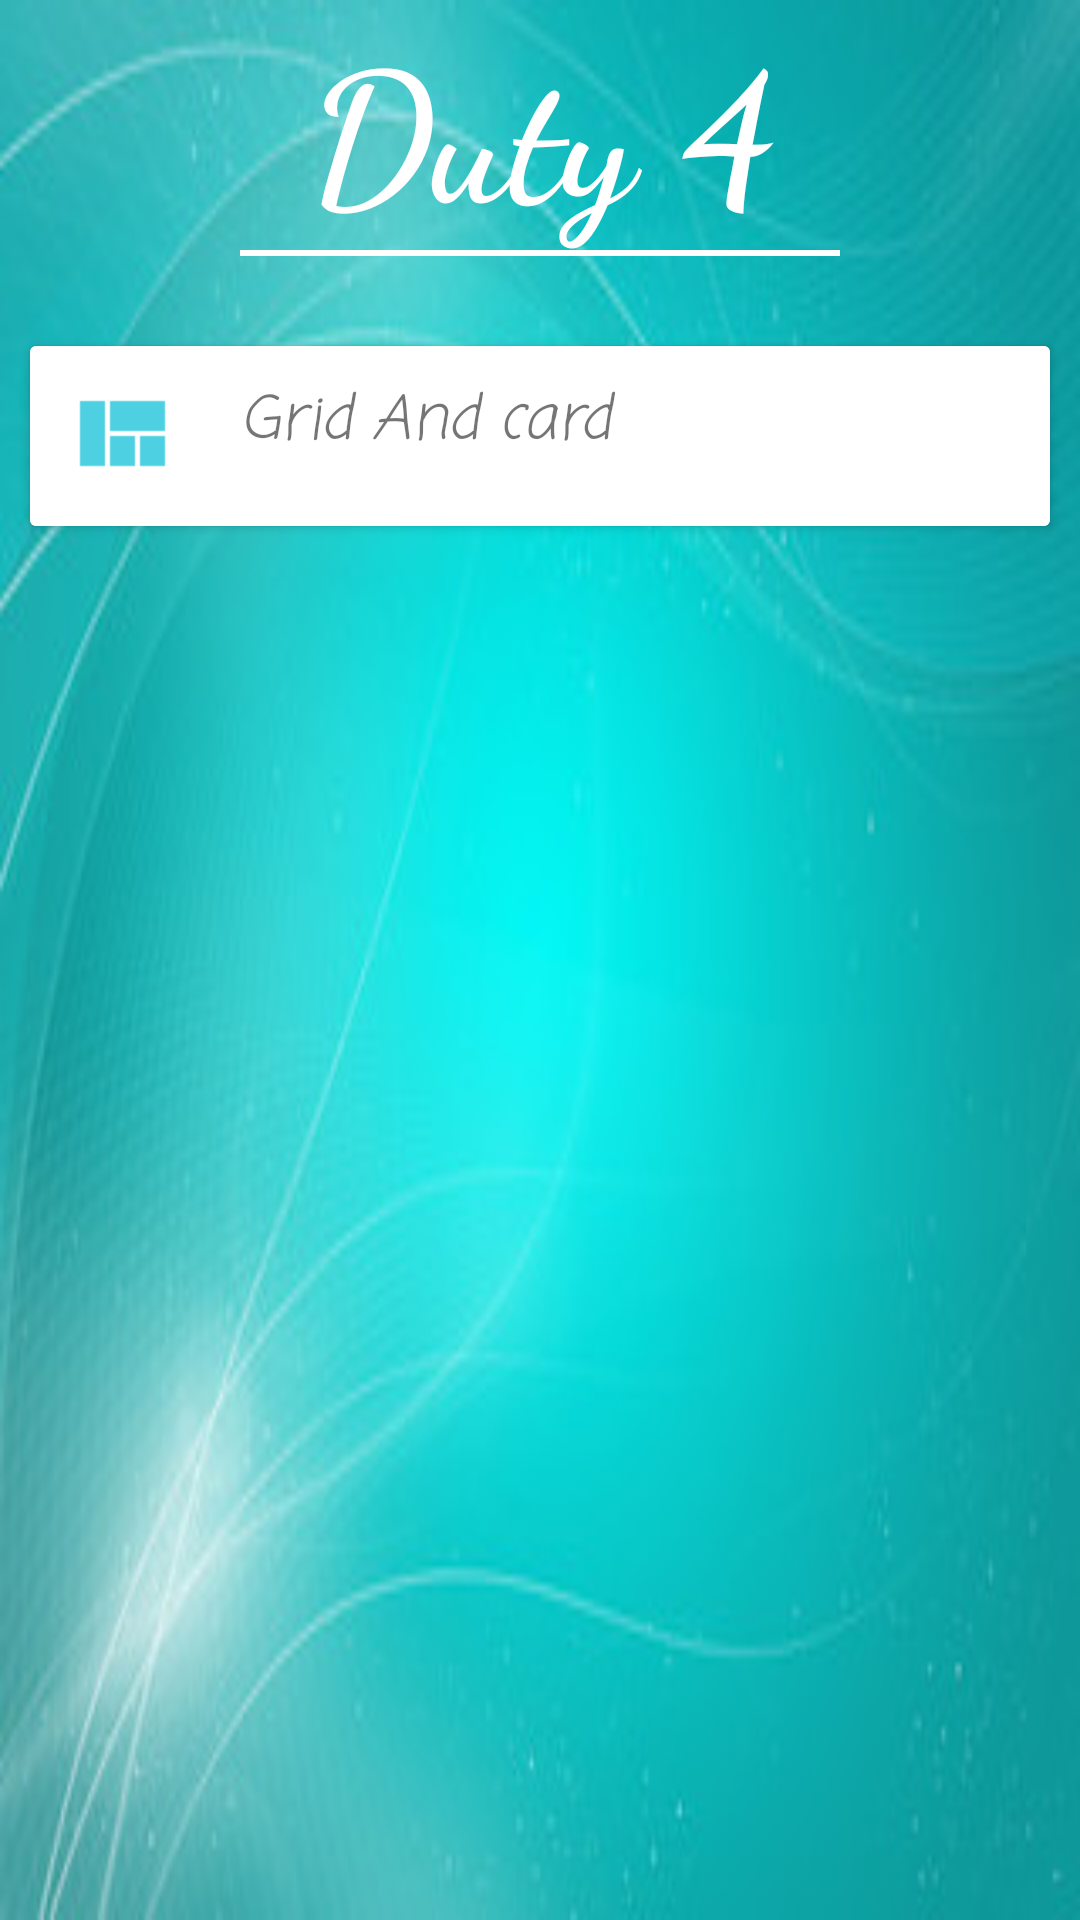

Locate icon controls on the screen. Image size 1080x1920, boxes as Rect(x1, y1, x2, y2).
view quilt cyan: Rect(79, 400, 166, 467)
